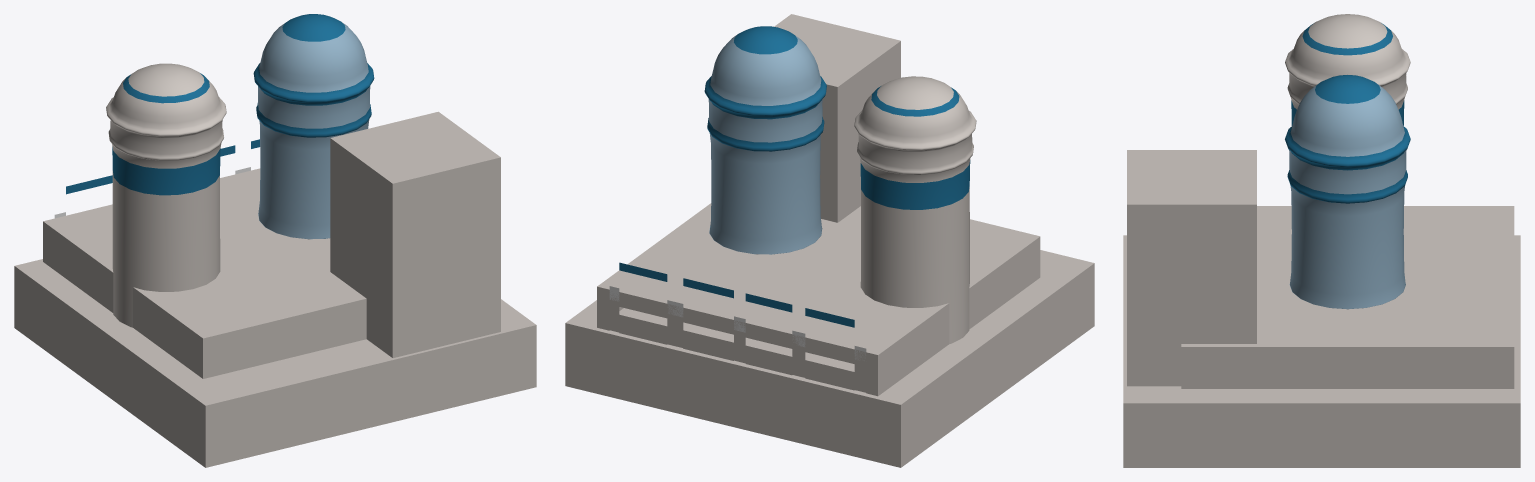
The model's file is factory_ex_1.glb.
3 views of the same model, side by side, from view 1: azimuth 30°, elevation 25°; view 2: azimuth 150°, elevation 25°; view 3: azimuth 270°, elevation 25° (orthographic). The views are drawn at different scales.
Parts seen in each view (by area): view 1: pCube22_lambert3_0, pCube46, pCube8, pSphere8, pSphere5; view 2: pCube22_lambert3_0, pCube8, pSphere8, pSphere5, pCube46; view 3: pCube8, pCube22_lambert3_0, pCube46, pSphere5, pSphere8.
Boxes of the visible parts, x1,y1,x2,y2 form: pCube22_lambert3_0: (14,259,536,467); pCube46: (330,111,500,357); pCube8: (43,139,366,378); pSphere8: (106,63,226,327); pSphere5: (253,14,374,239); pCube22_lambert3_0: (565,250,1094,467); pCube8: (597,203,1040,396); pSphere8: (854,76,976,343); pSphere5: (704,26,826,254); pCube46: (774,14,900,222); pCube8: (1181,206,1514,388); pCube22_lambert3_0: (1123,235,1520,467); pCube46: (1127,150,1256,386); pSphere5: (1285,75,1410,309); pSphere8: (1285,14,1410,125).
Size of the model in its own units: 1 by 0.917 by 1.
